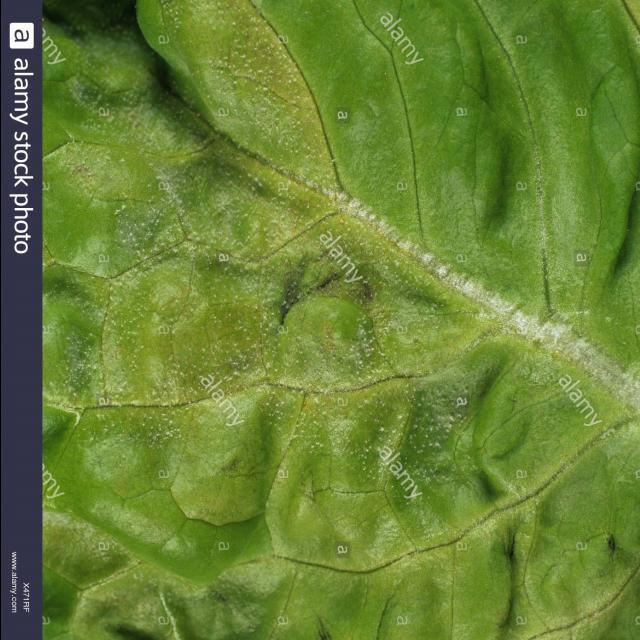Powdery_mildew_on_lettuce: (319, 168, 629, 438)
